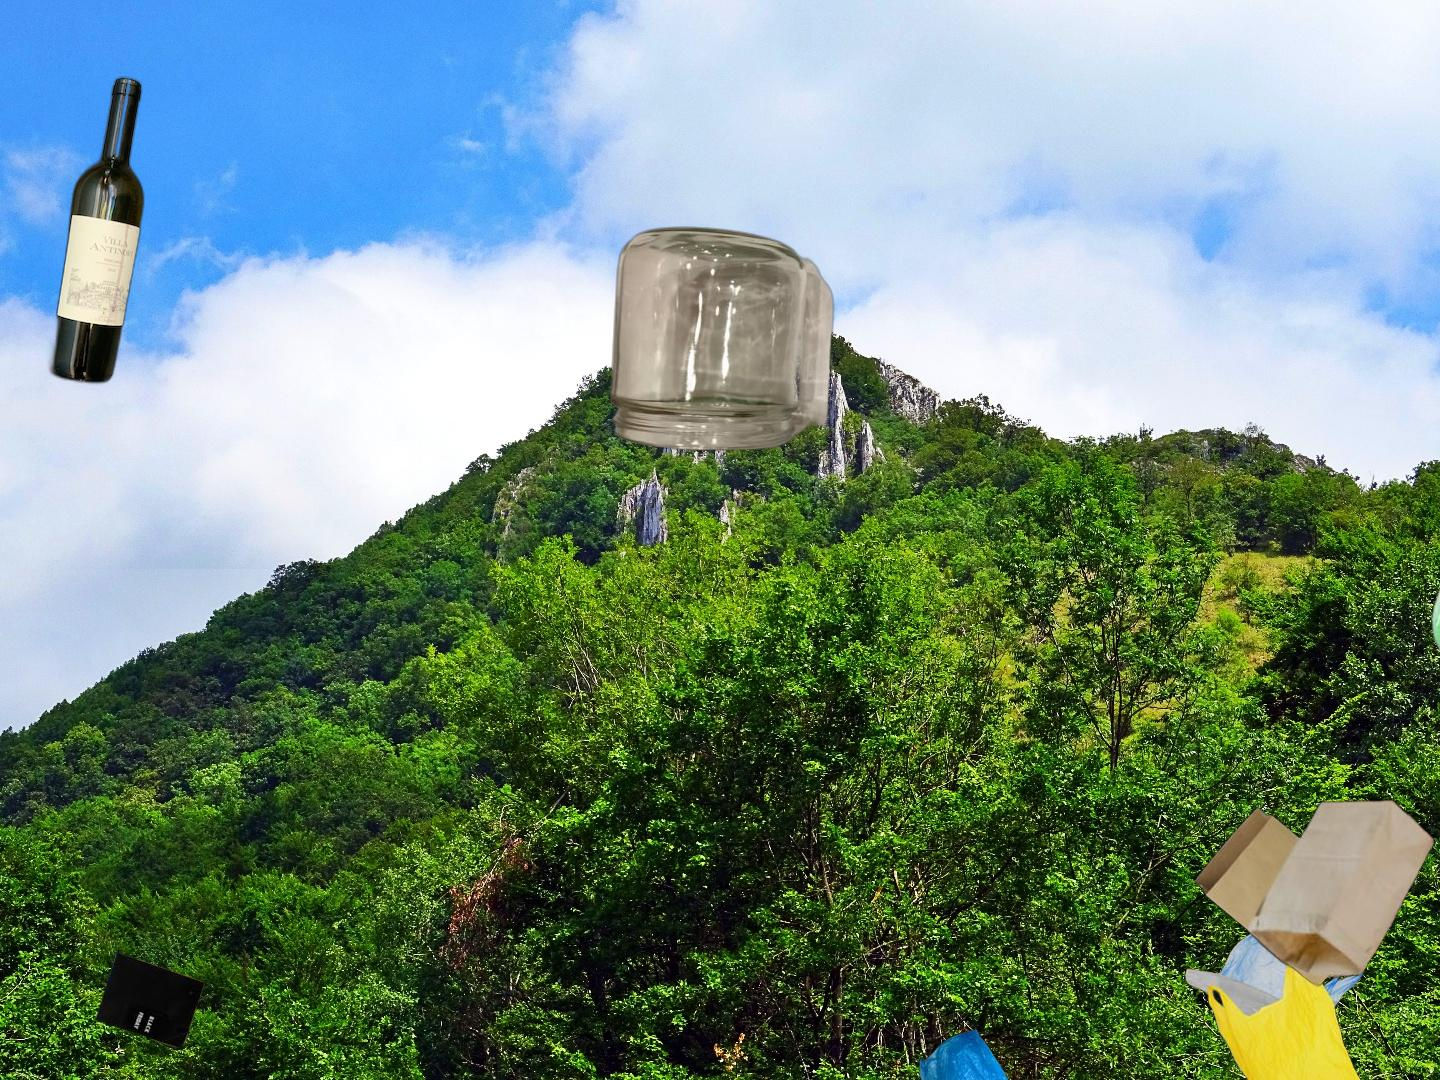battery: (1428, 292, 1440, 758)
glass: (605, 223, 838, 456), (45, 71, 149, 389)
paper-bag: (91, 763, 263, 1064), (1191, 798, 1438, 989)
plastic-bag: (1183, 900, 1367, 1080), (916, 1026, 1044, 1080)
